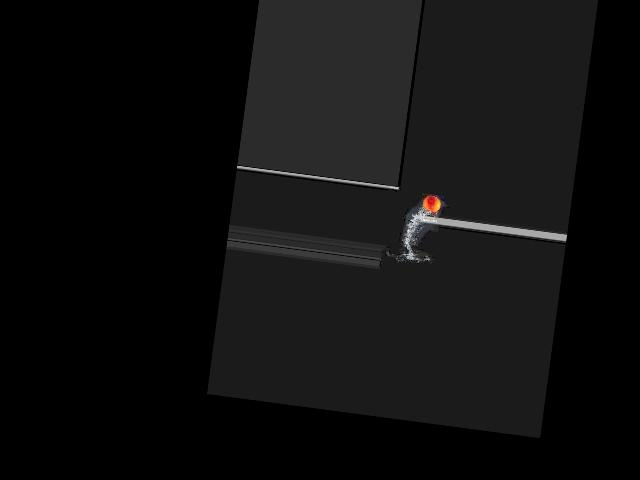tomato: (422, 195, 441, 213)
